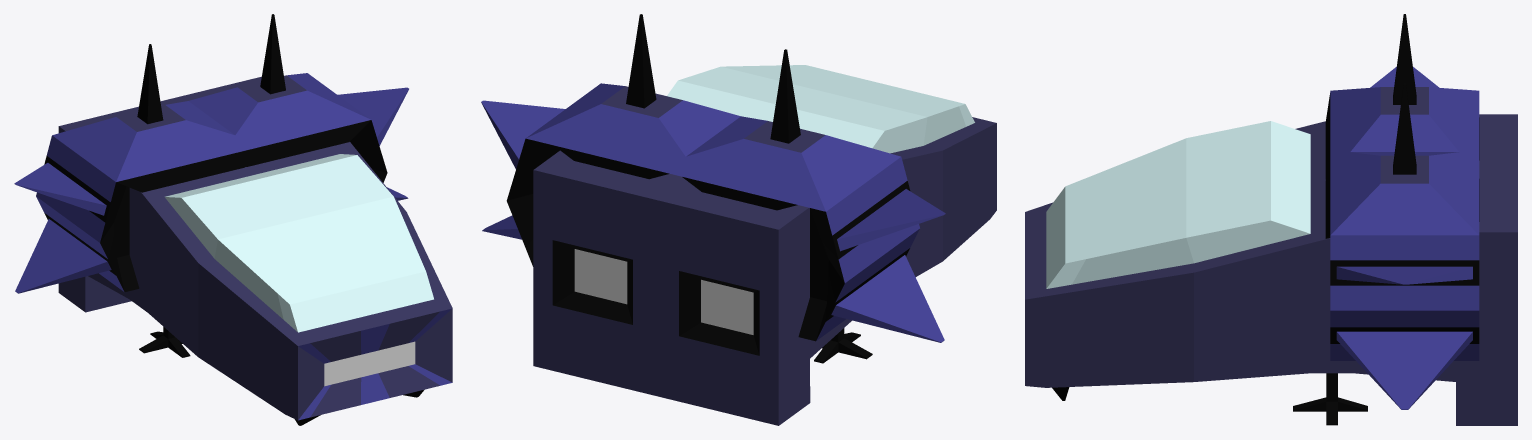
File: NAVE 1.fbx
3 views of the same model, side by side, from view 1: azimuth 30°, elevation 25°; view 2: azimuth 150°, elevation 25°; view 3: azimuth 270°, elevation 25° (orthographic). The views are drawn at different scales.
Visible parts, largest first — view 1: Nave; view 2: Nave; view 3: Nave.
Boxes of the visible parts, left/top/right/bottom form: Nave: left=14, top=14, right=452, bottom=425; Nave: left=481, top=14, right=996, bottom=425; Nave: left=1025, top=14, right=1517, bottom=425.
Bounding box in the file's own units: 566 × 377 × 529.
